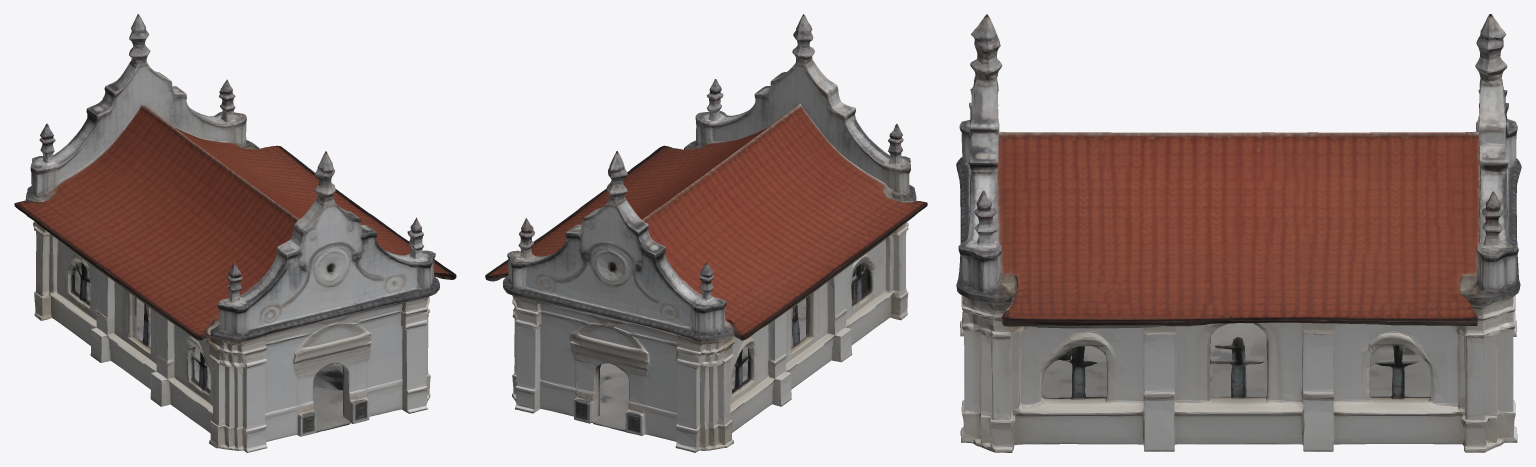
Rendered from Galle-Dutch-Reformed-Church.glb.
3 renders of one model, left to right at view 1: azimuth 30°, elevation 25°; view 2: azimuth 150°, elevation 25°; view 3: azimuth 270°, elevation 25°, orthographic. The views are drawn at different scales.
Parts seen in each view (by area): view 1: world; view 2: world; view 3: world.
Boxes of the visible parts, box(x1,y1,x2,y2) form: world: box(14, 14, 456, 452); world: box(485, 14, 927, 452); world: box(956, 14, 1521, 452).
Size of the model in its own units: 0.7191 by 0.7119 by 0.9904.
1 material, 1 textured.
